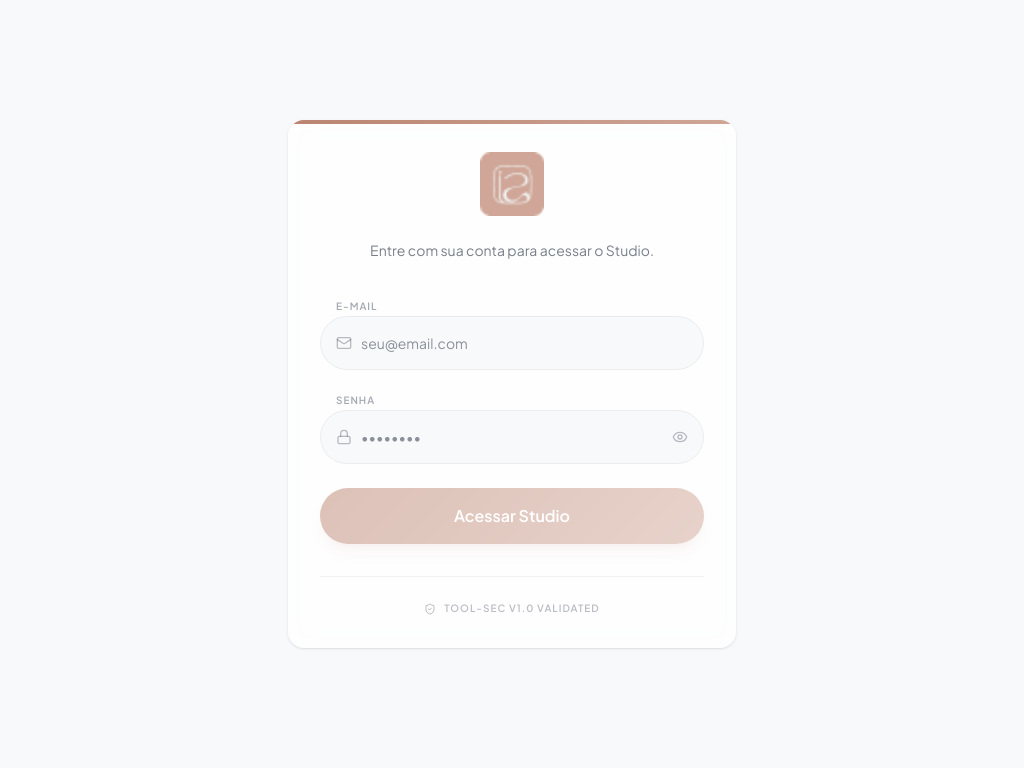
Test: AuthGate › shows error on wrong credentials
Step 1. Type "paulo@teste.com" into the field with placeholder "seu@email.com" → (512,343), box [320,316,704,370]
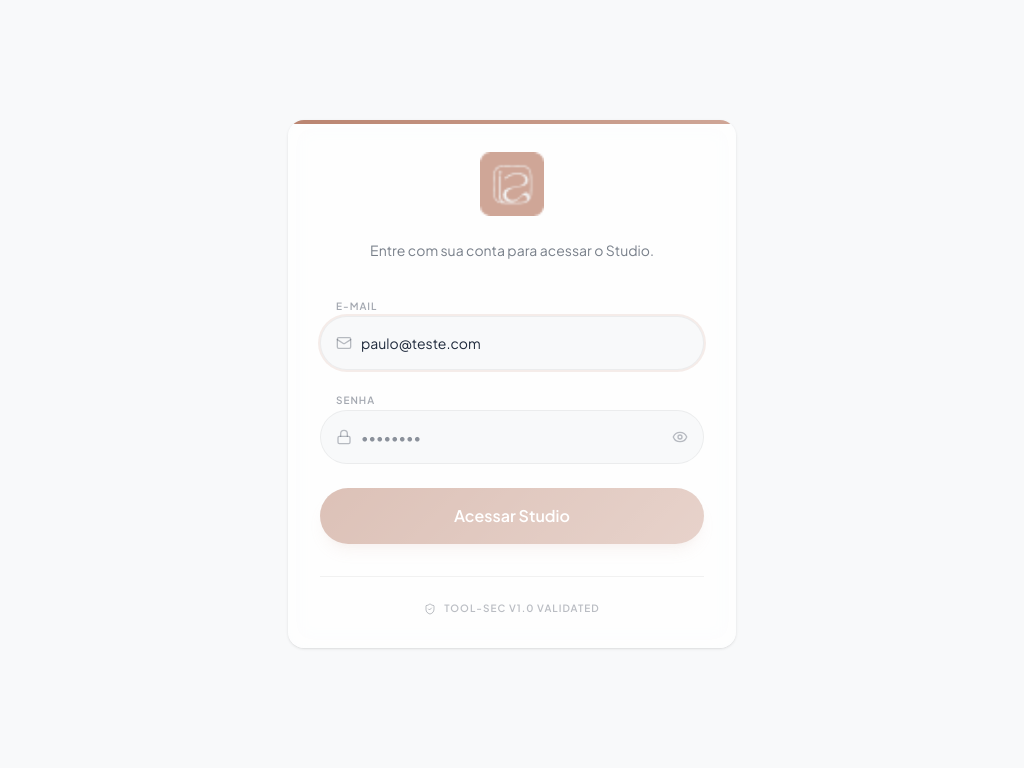
Step 2. Type "senhaerrada" into the password field with placeholder "••••••••" → (512,437), box [320,410,704,464]
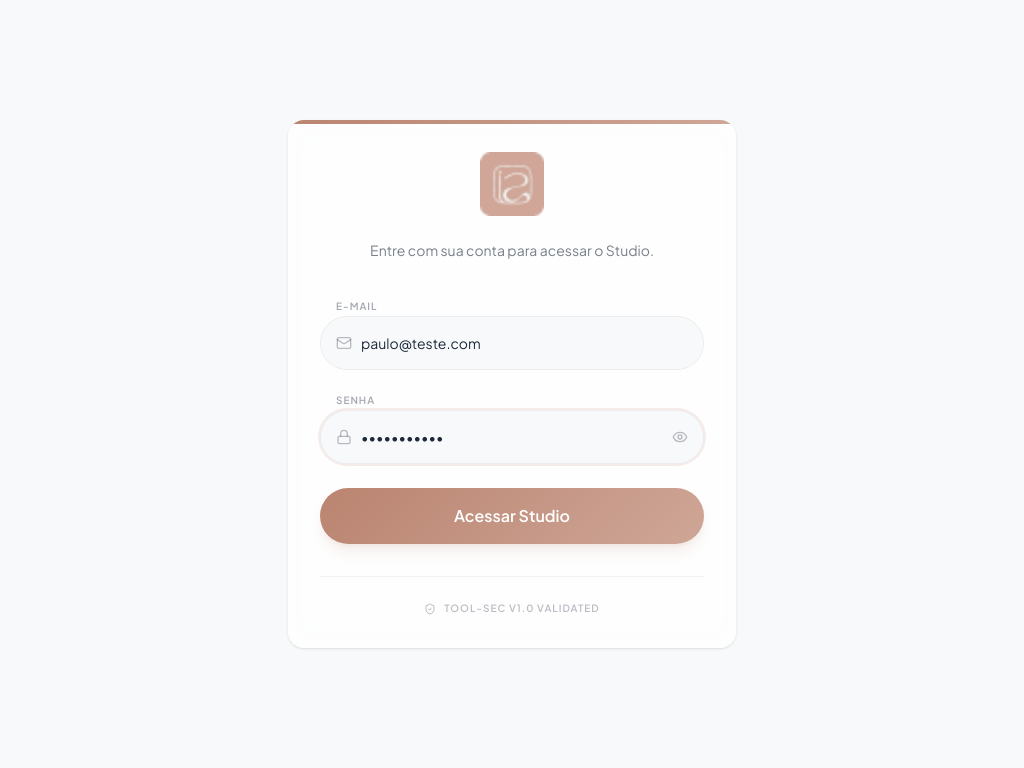
Step 3. Click the button "Acessar Studio" → (512,516), box [320,488,704,544]
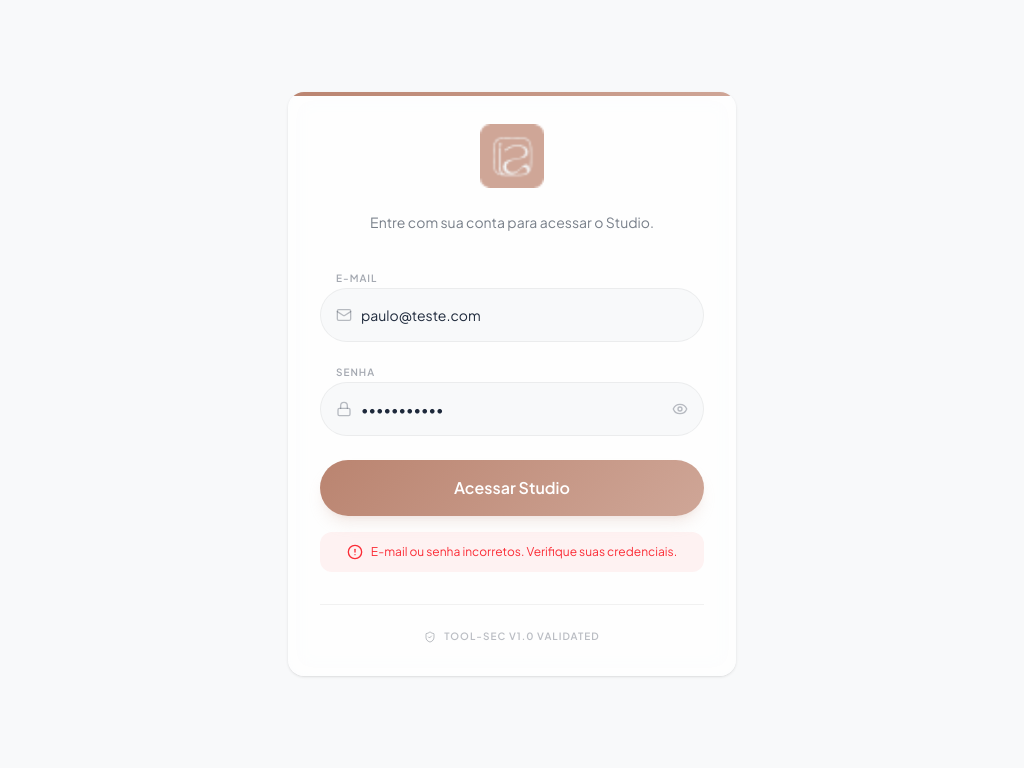
Now the text "E-mail ou senha incorretos. Verifique suas credenciais." is shown, box [371,544,677,560]
